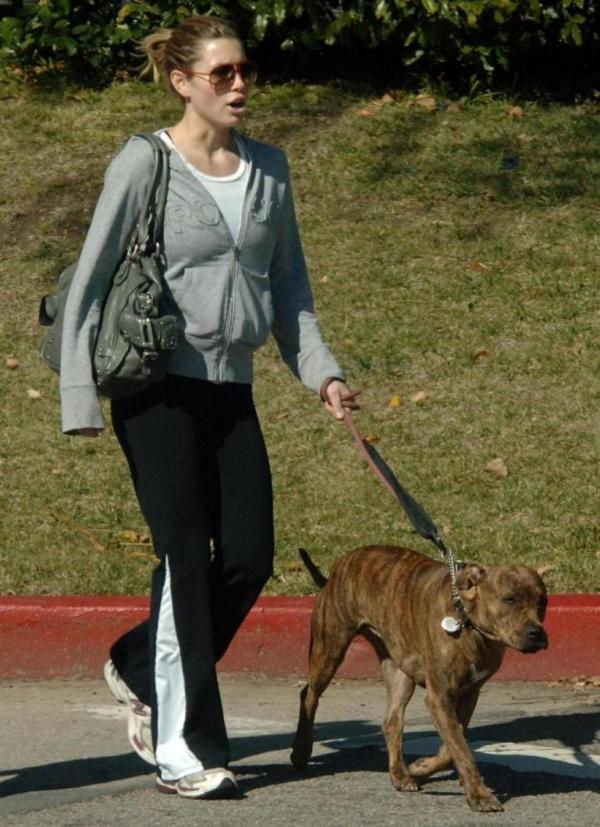person: (63, 16, 355, 802)
